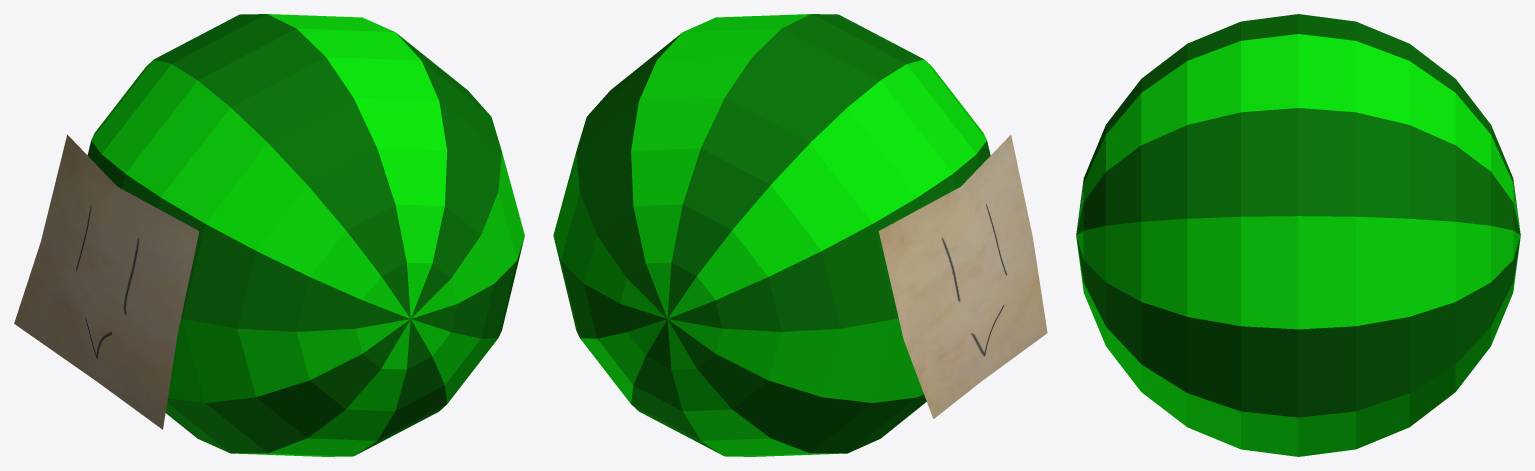
File: Melon.fbx
3 views of the same model, side by side, from view 1: azimuth 30°, elevation 25°; view 2: azimuth 150°, elevation 25°; view 3: azimuth 270°, elevation 25° (orthographic). The views are drawn at different scales.
Parts seen in each view (by area): view 1: pPlane2; view 2: pPlane2; view 3: pPlane2.
Part boxes in pixels (x1,y1,x2,y2): pPlane2: [14, 14, 524, 456]; pPlane2: [553, 14, 1047, 456]; pPlane2: [1076, 14, 1520, 456].
Bounding box in the file's own units: 52.46 × 50 × 50.
